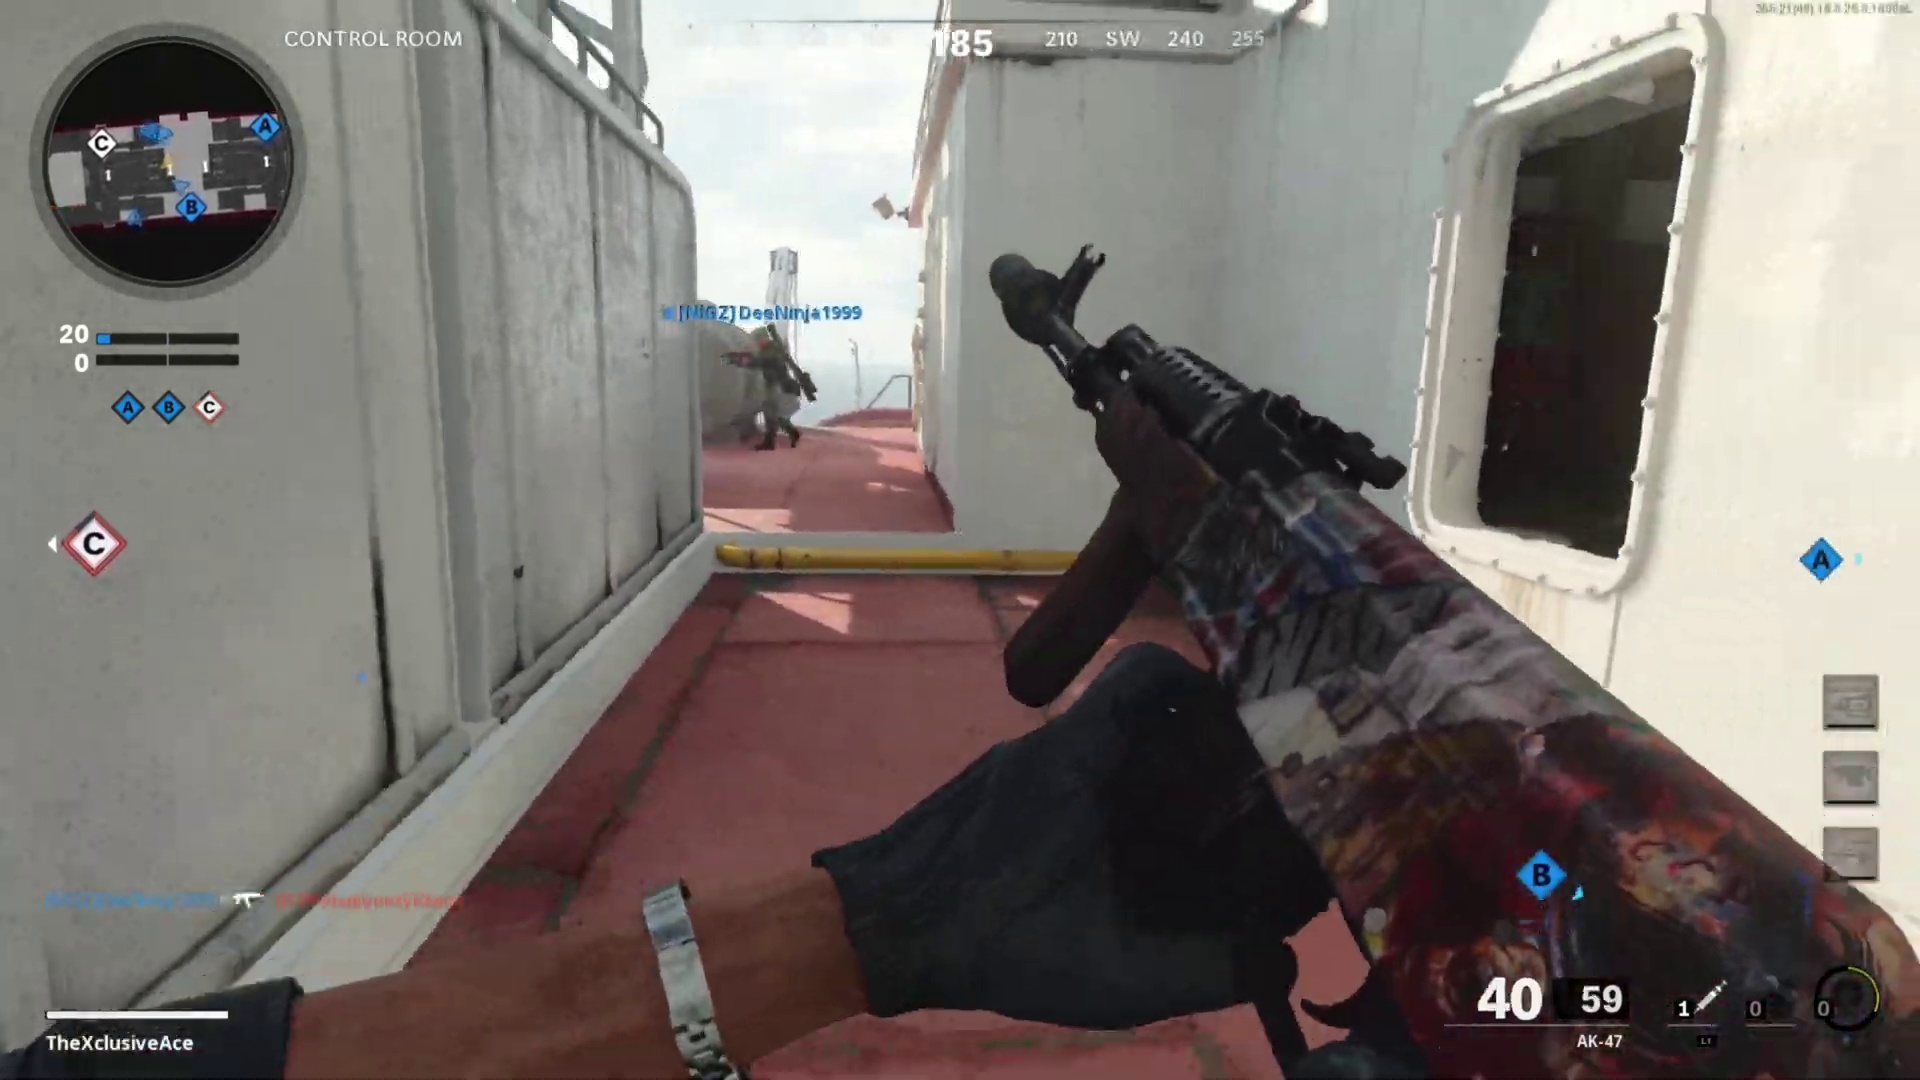head: (1313, 698, 1540, 934), (746, 325, 771, 353)
person: (735, 323, 810, 449)
